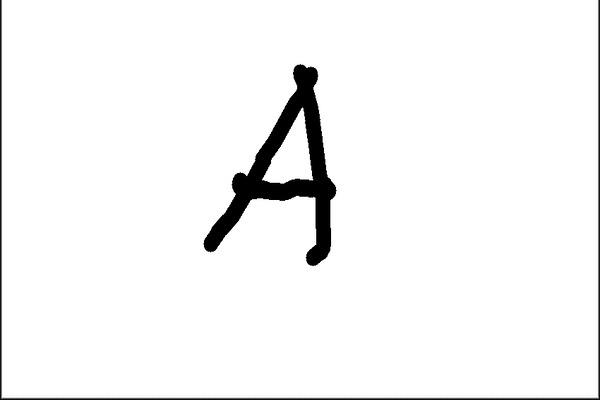A: (193, 51, 339, 274)
